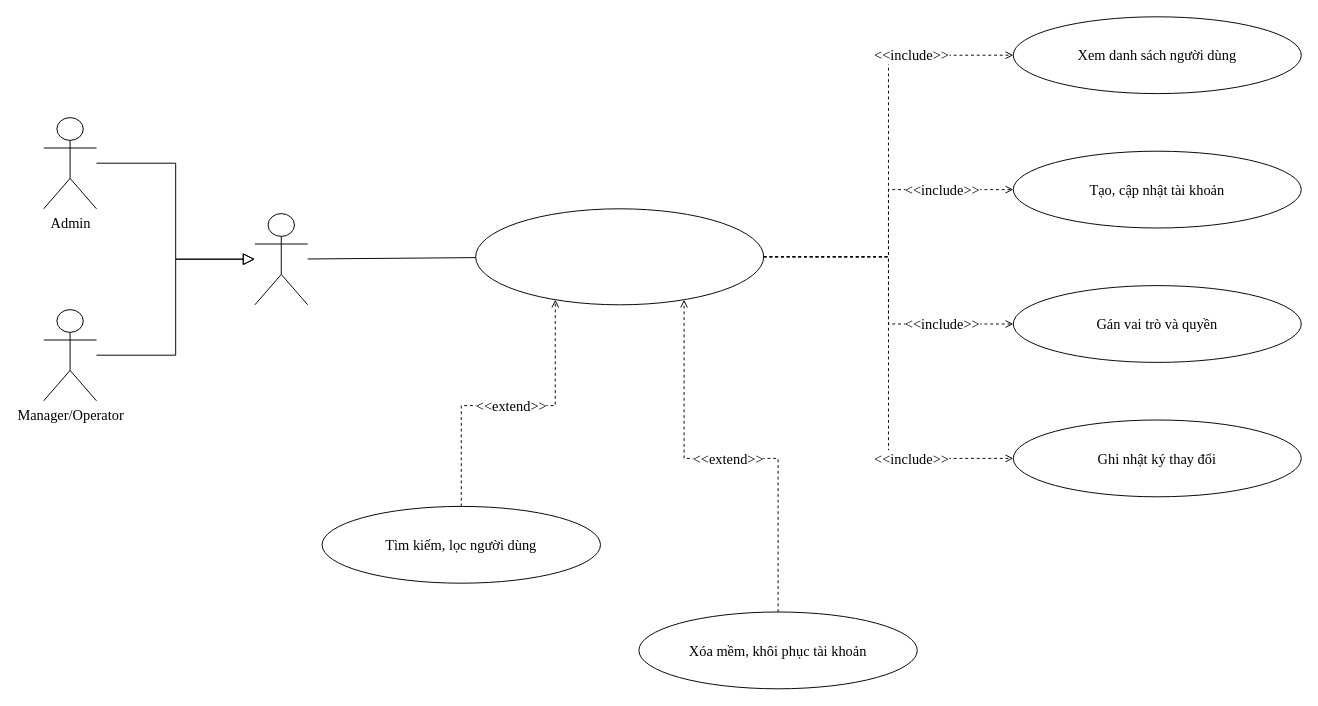
This 1318x706 diagram has some shape labels left out. Each missing label, with the centre of its shape:
"Người quản trị" belongs at point 281,259.
"Quản lý người dùng và phân quyền" belongs at point 619,256.
